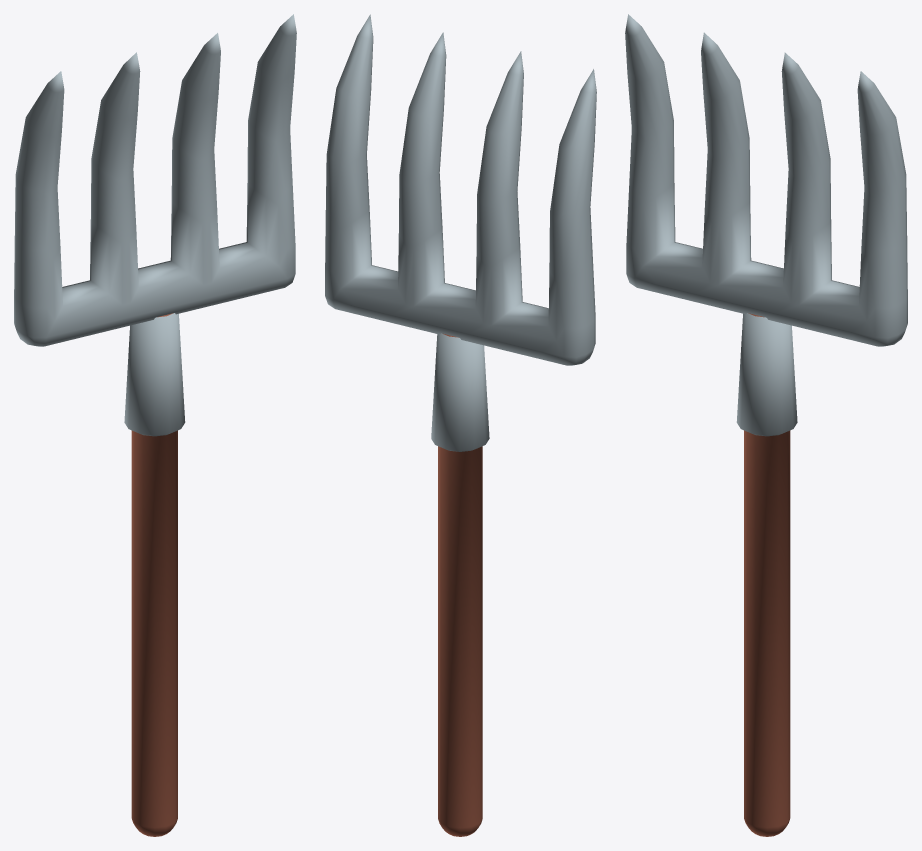
File: pitchfork.gltf
3 renders of one model, left to right at view 1: azimuth 30°, elevation 25°; view 2: azimuth 150°, elevation 25°; view 3: azimuth 330°, elevation 25°, orthographic. The views are drawn at different scales.
Parts seen in each view (by area): view 1: pitchfork; view 2: pitchfork; view 3: pitchfork.
Part boxes in pixels (bbox=[...]): pitchfork: bbox=[14, 14, 296, 836]; pitchfork: bbox=[325, 14, 596, 836]; pitchfork: bbox=[625, 14, 907, 836].
Size of the model in its own units: 0.7133 by 2.03 by 0.1733.
